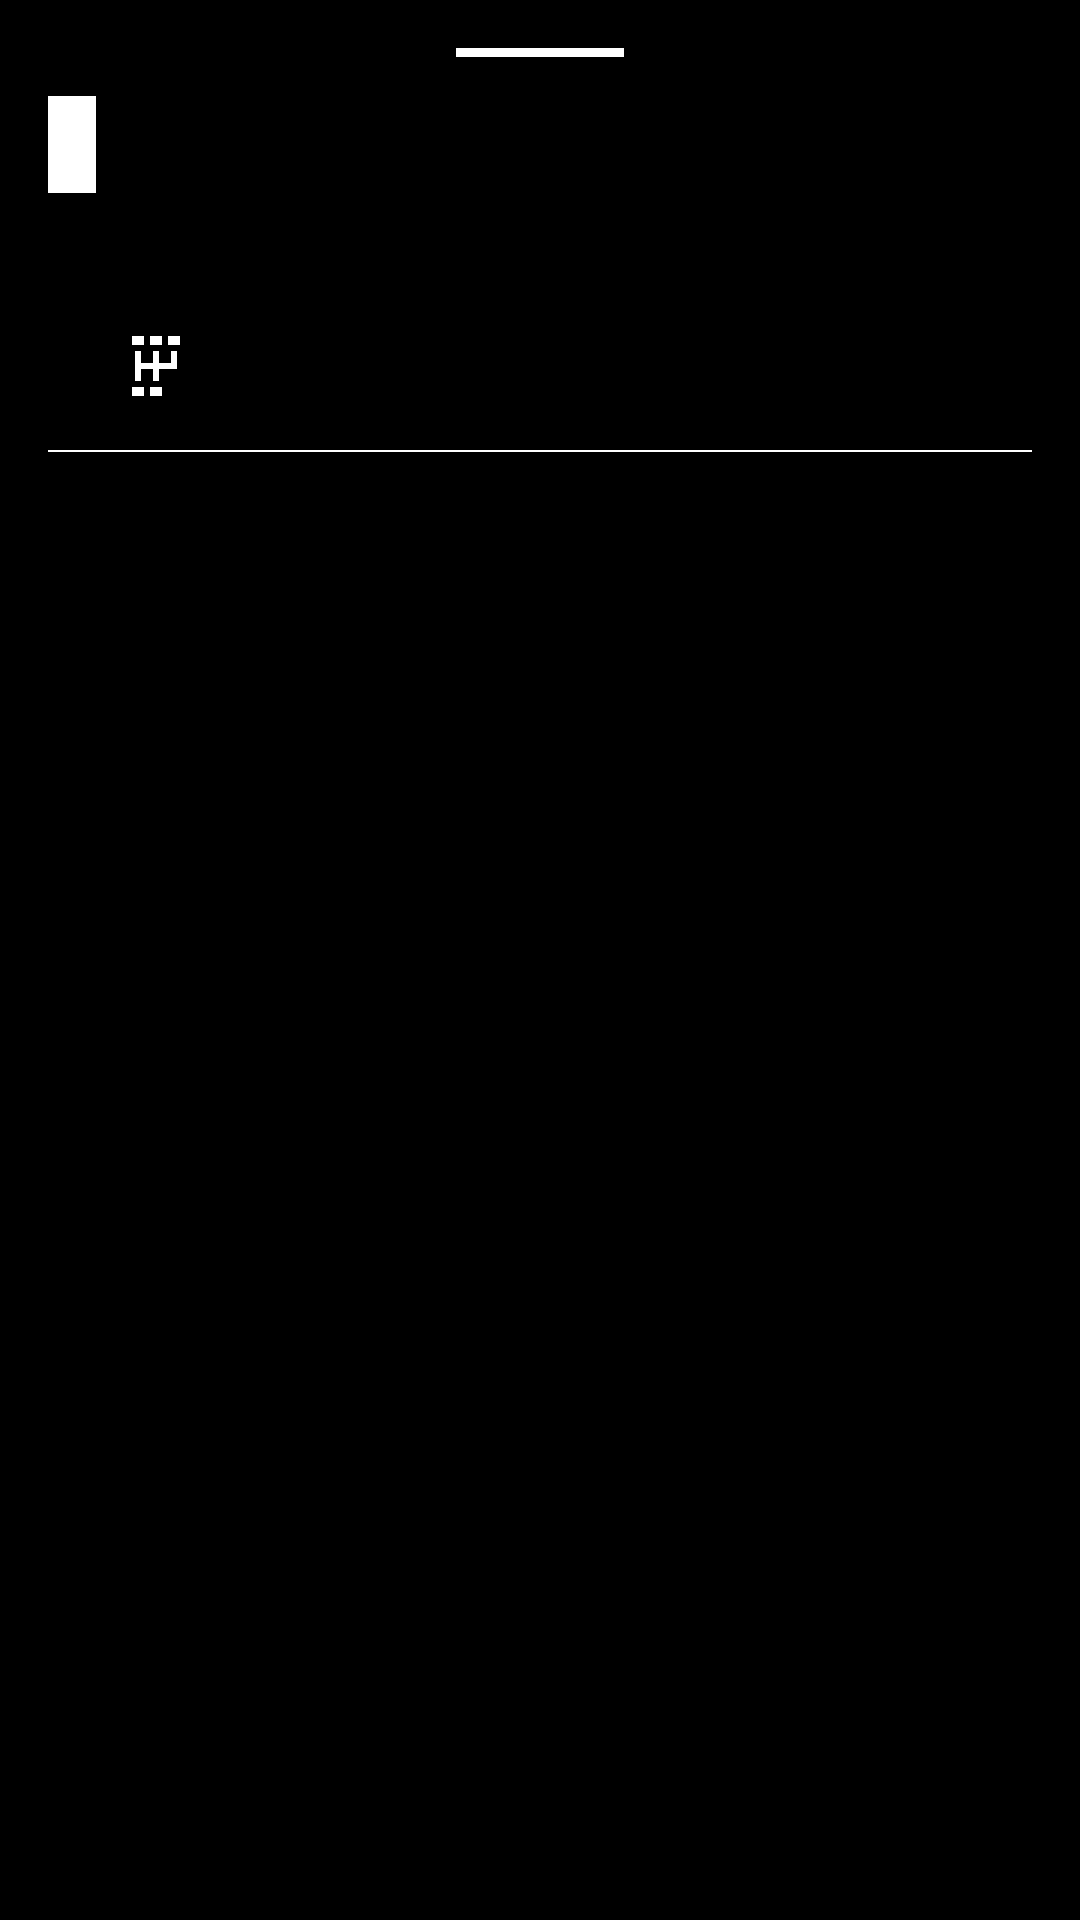

Locate icon controls on the screen. Image size 1080 x 1920, boxes as (x1, y1, x2, y2).
car shift pattern: (132, 336, 180, 396)
